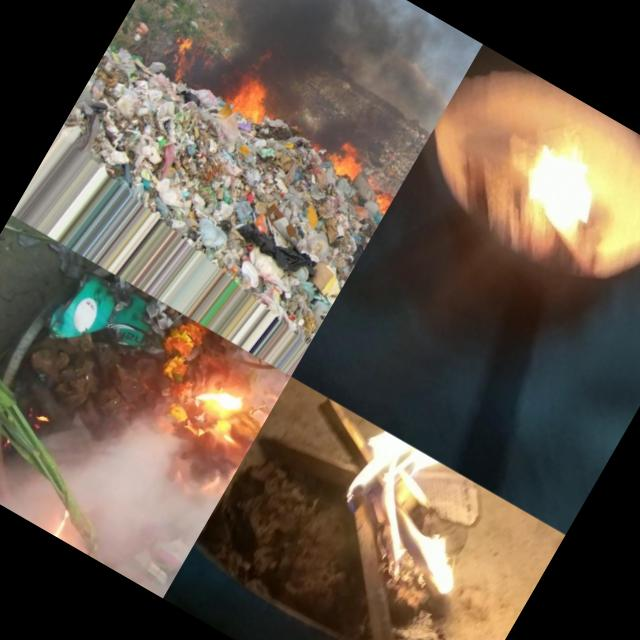fire: (306, 425, 499, 616), (486, 106, 640, 268), (316, 132, 378, 190), (225, 70, 282, 132), (359, 170, 404, 222), (141, 549, 185, 599), (163, 32, 203, 82)
smoke: (192, 0, 482, 164), (178, 44, 248, 112), (266, 90, 340, 151)
